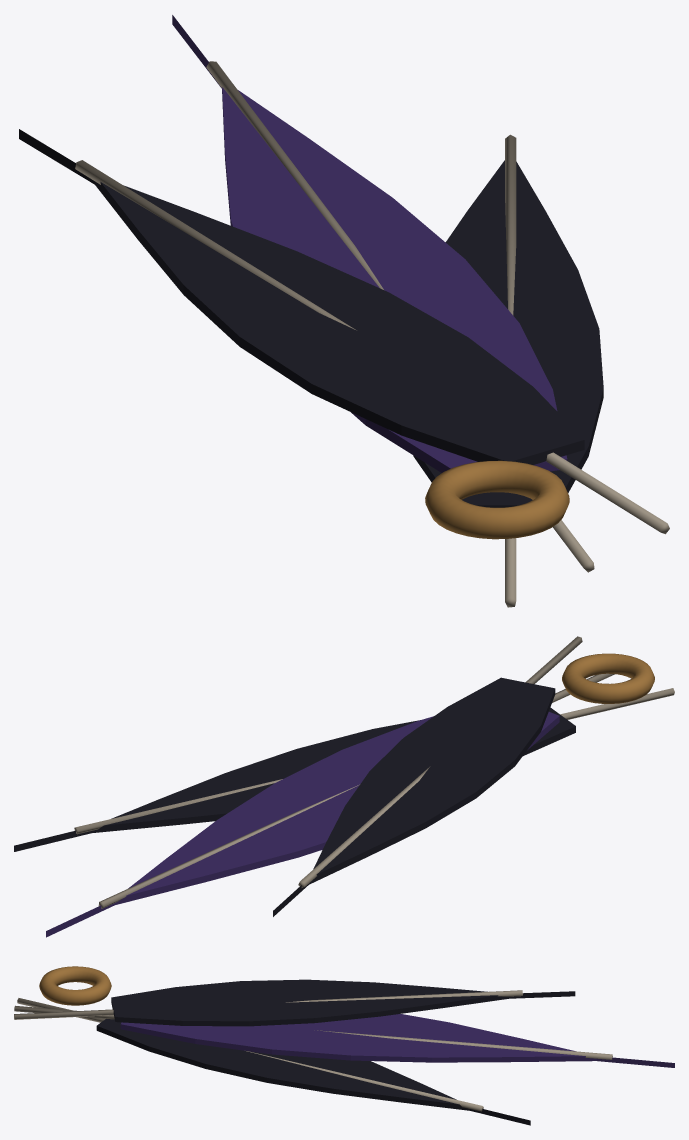
The model's file is rabenfedern.glb.
The picture shows the model from 3 angles, top to bottom: view 1: azimuth 30°, elevation 25°; view 2: azimuth 150°, elevation 25°; view 3: azimuth 270°, elevation 25°; orthographic projection. The views are drawn at different scales.
Parts seen in each view (by area): view 1: f; view 2: f; view 3: f.
Part boxes in pixels (<box>): f: <box>19,15,669,607</box>; f: <box>14,636,674,937</box>; f: <box>14,966,674,1125</box>.
Size of the model in its own units: 0.11 by 0.014 by 0.237.
